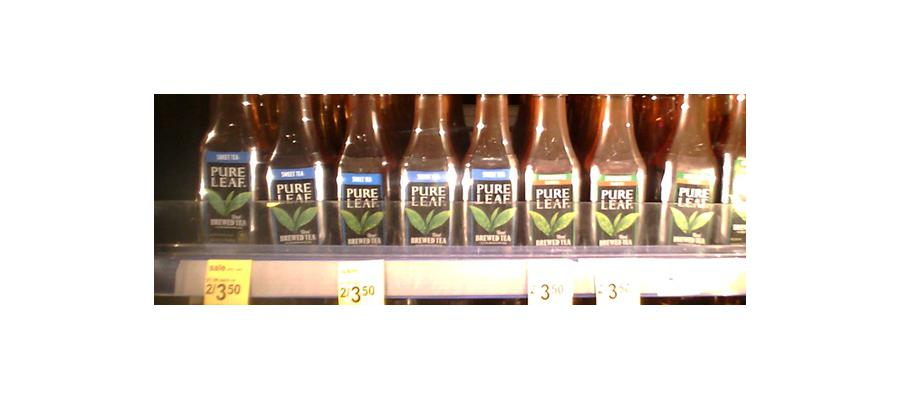bottle: (263, 88, 329, 247), (196, 88, 260, 247), (400, 85, 459, 256), (522, 89, 583, 254), (459, 89, 520, 254), (586, 88, 647, 252), (332, 87, 393, 250), (656, 91, 716, 249)
